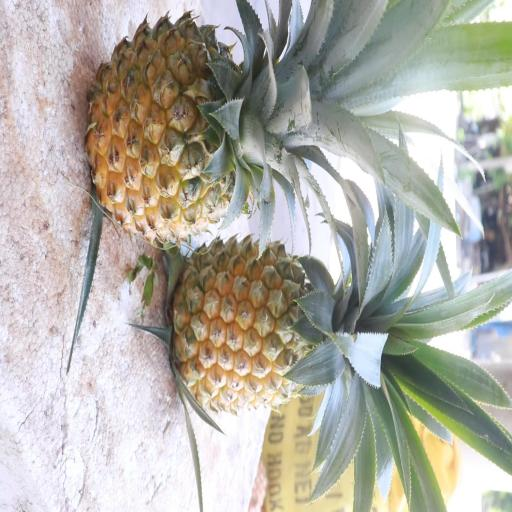Pineapple - v8 v1: (82, 8, 327, 252), (167, 228, 399, 417)
